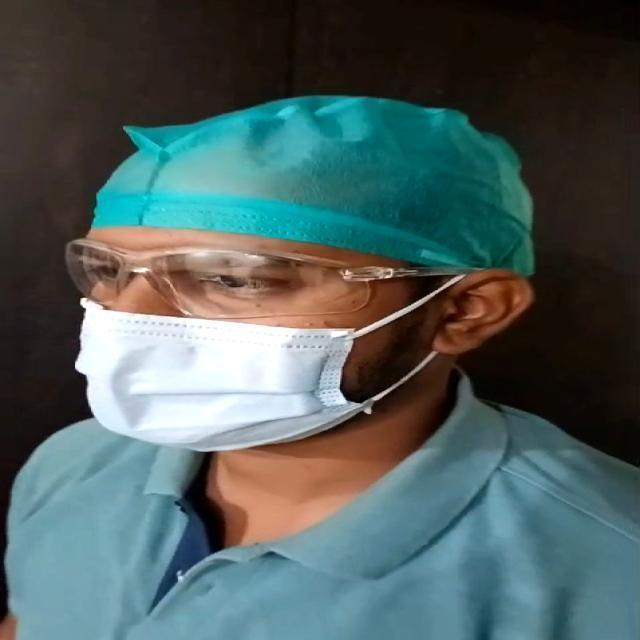gloves: (114, 74, 564, 294)
mask: (55, 292, 356, 468)
